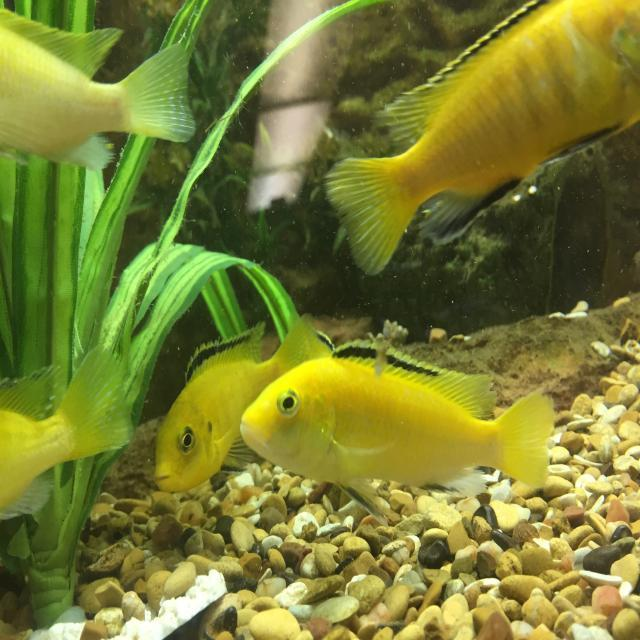YellowCichlid: (331, 0, 638, 248), (233, 341, 555, 506), (0, 3, 213, 187), (0, 344, 145, 518), (152, 300, 242, 530)
